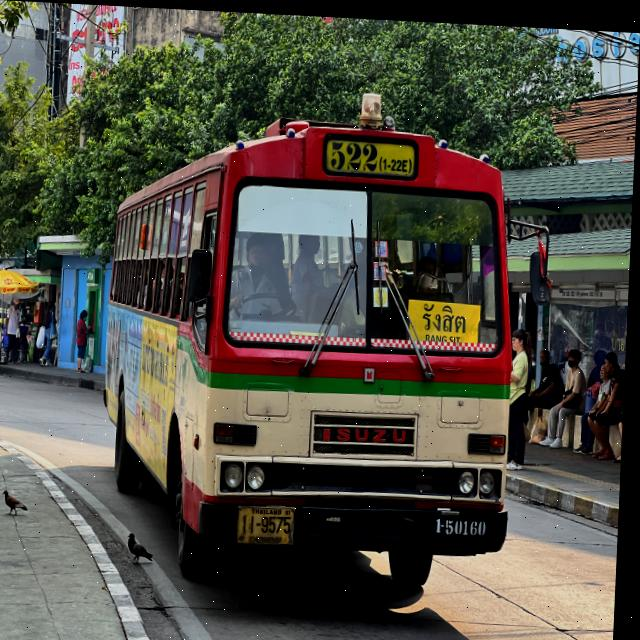BMTA-bus: (90, 73, 541, 607)
Bus Line Number: (322, 127, 422, 177)
Bus Side Number: (436, 507, 494, 538)
Destination Sign: (409, 295, 484, 345)
